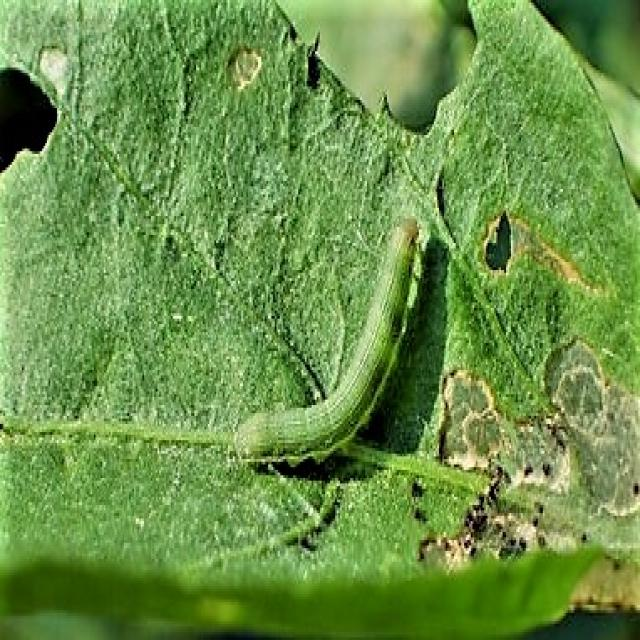armyworm: (234, 204, 425, 469)
